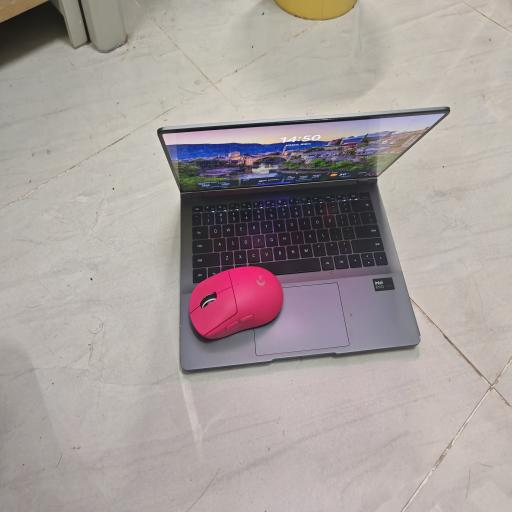laptop: (158, 107, 449, 370)
mouse: (189, 267, 283, 339)
